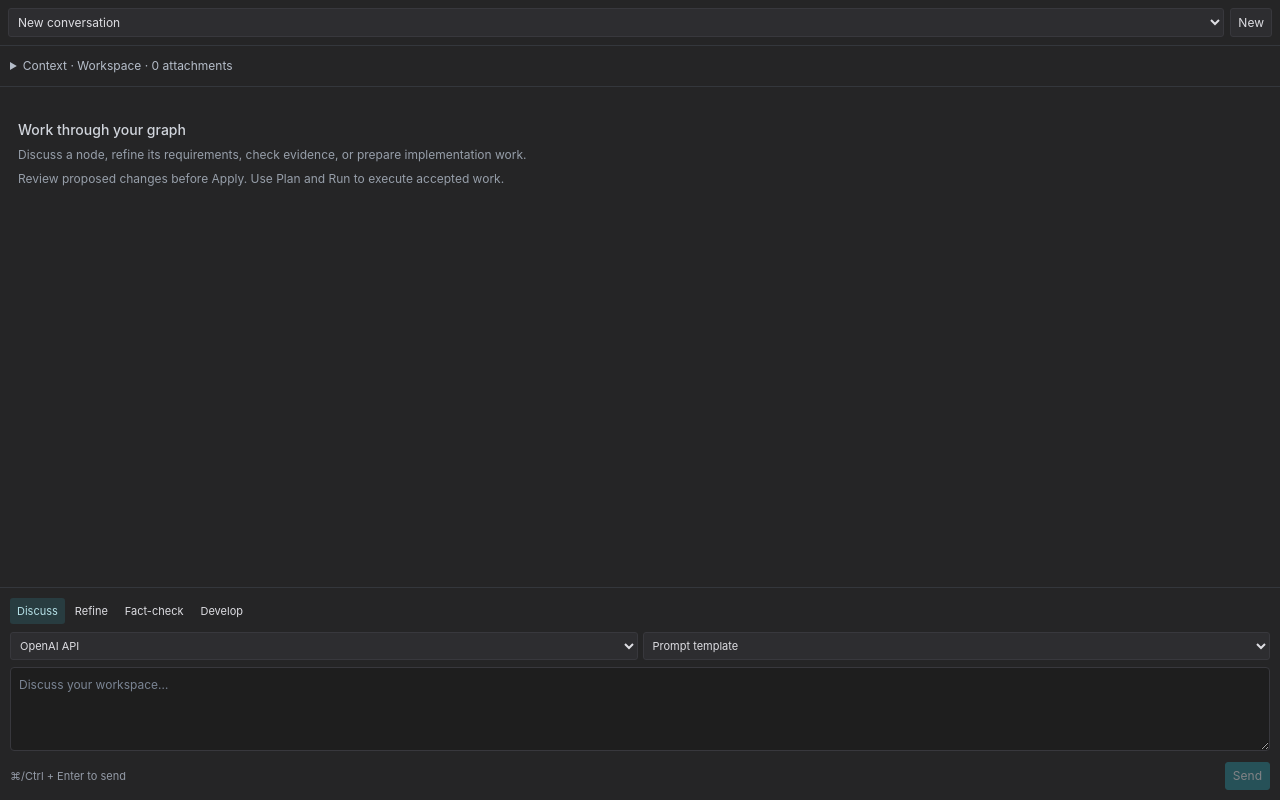
Test: AI chat › previews AI-created nodes and relationships without applying them automatically
Select "A node · 9/12/2026" in the dropdown named "Conversation history": (616, 22) [8, 8, 1224, 37]
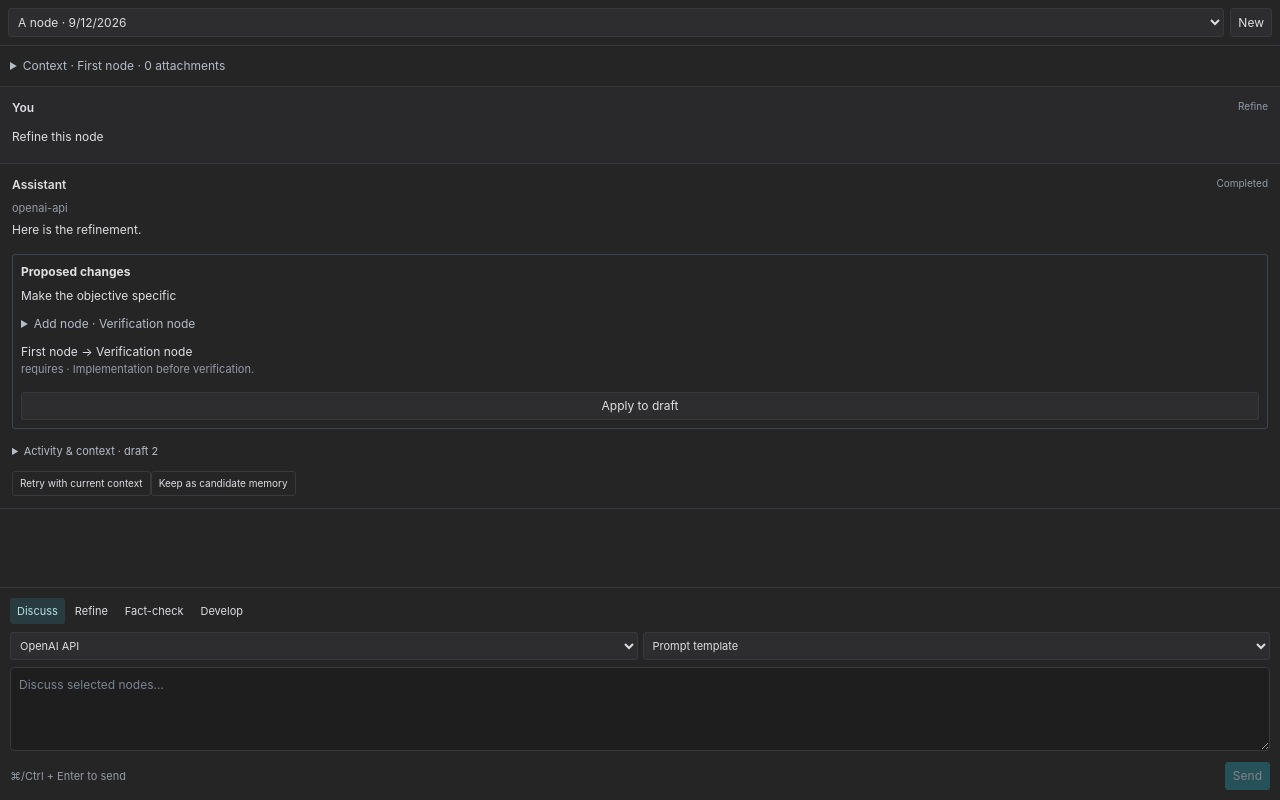
Now the heading "Add node · Verification node" is shown, box [34, 316, 195, 331]
Now the text "First node → Verification node" is shown, box [21, 344, 254, 376]
Now the button "Apply to draft" is enabled, box [21, 392, 1259, 420]
